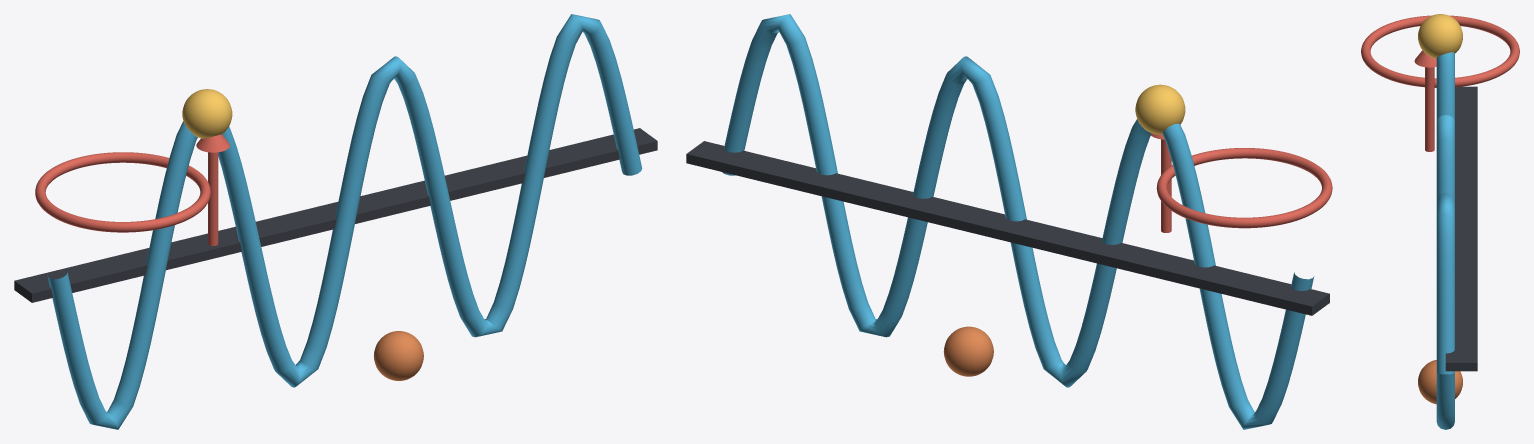
Rendered from physics-waves-amplitude.glb.
The picture shows the model from 3 angles, left to right: view 1: azimuth 30°, elevation 25°; view 2: azimuth 150°, elevation 25°; view 3: azimuth 270°, elevation 25°; orthographic projection. The views are drawn at different scales.
Parts seen in each view (by area): view 1: wave-curve-energy-transfer, rest-line-reference, energy-ring-bigger-disturbance, trough-low-point, crest-high-point, amplitude-marker-rest-to-crest-shaft; view 2: wave-curve-energy-transfer, rest-line-reference, energy-ring-bigger-disturbance, trough-low-point, crest-high-point, amplitude-marker-rest-to-crest-shaft; view 3: wave-curve-energy-transfer, rest-line-reference, energy-ring-bigger-disturbance, crest-high-point, amplitude-marker-rest-to-crest-shaft, trough-low-point, amplitude-marker-rest-to-crest-head.
Boxes of the visible parts, <box> form: wave-curve-energy-transfer: <box>47,14,642,429</box>; rest-line-reference: <box>14,128,657,302</box>; energy-ring-bigger-disturbance: <box>35,152,210,232</box>; trough-low-point: <box>374,331,423,380</box>; crest-high-point: <box>182,89,232,138</box>; amplitude-marker-rest-to-crest-shaft: <box>208,152,218,245</box>; wave-curve-energy-transfer: <box>722,14,1314,429</box>; rest-line-reference: <box>686,141,1329,315</box>; energy-ring-bigger-disturbance: <box>1156,148,1332,228</box>; trough-low-point: <box>943,326,993,376</box>; crest-high-point: <box>1135,84,1185,134</box>; amplitude-marker-rest-to-crest-shaft: <box>1161,139,1171,232</box>; wave-curve-energy-transfer: <box>1436,52,1454,429</box>; rest-line-reference: <box>1445,86,1477,371</box>; energy-ring-bigger-disturbance: <box>1361,15,1519,87</box>; crest-high-point: <box>1418,14,1462,58</box>; amplitude-marker-rest-to-crest-shaft: <box>1425,67,1434,151</box>; trough-low-point: <box>1418,360,1462,404</box>; amplitude-marker-rest-to-crest-head: <box>1414,50,1436,67</box>.
Size of what is drawn, in the model's own units: 2.45 by 1.25 by 0.596.
